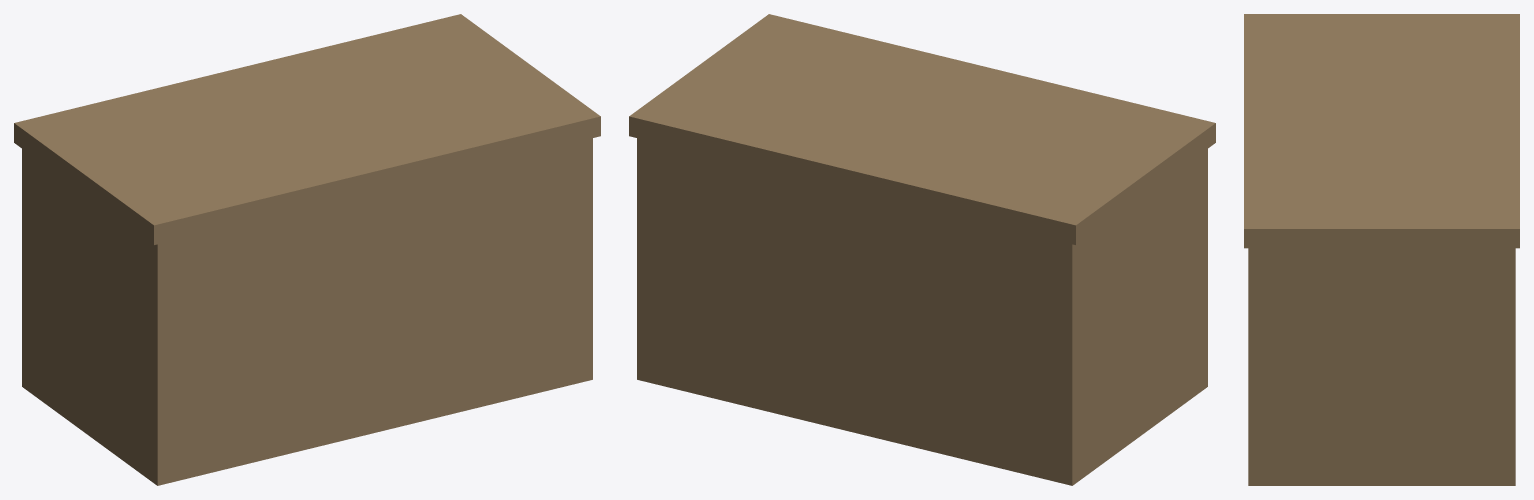
The model's file is trunk.gltf.
3 views of the same model, side by side, from view 1: azimuth 30°, elevation 25°; view 2: azimuth 150°, elevation 25°; view 3: azimuth 270°, elevation 25° (orthographic).
Size of the model in its own units: 1.18 by 0.665 by 0.64.
